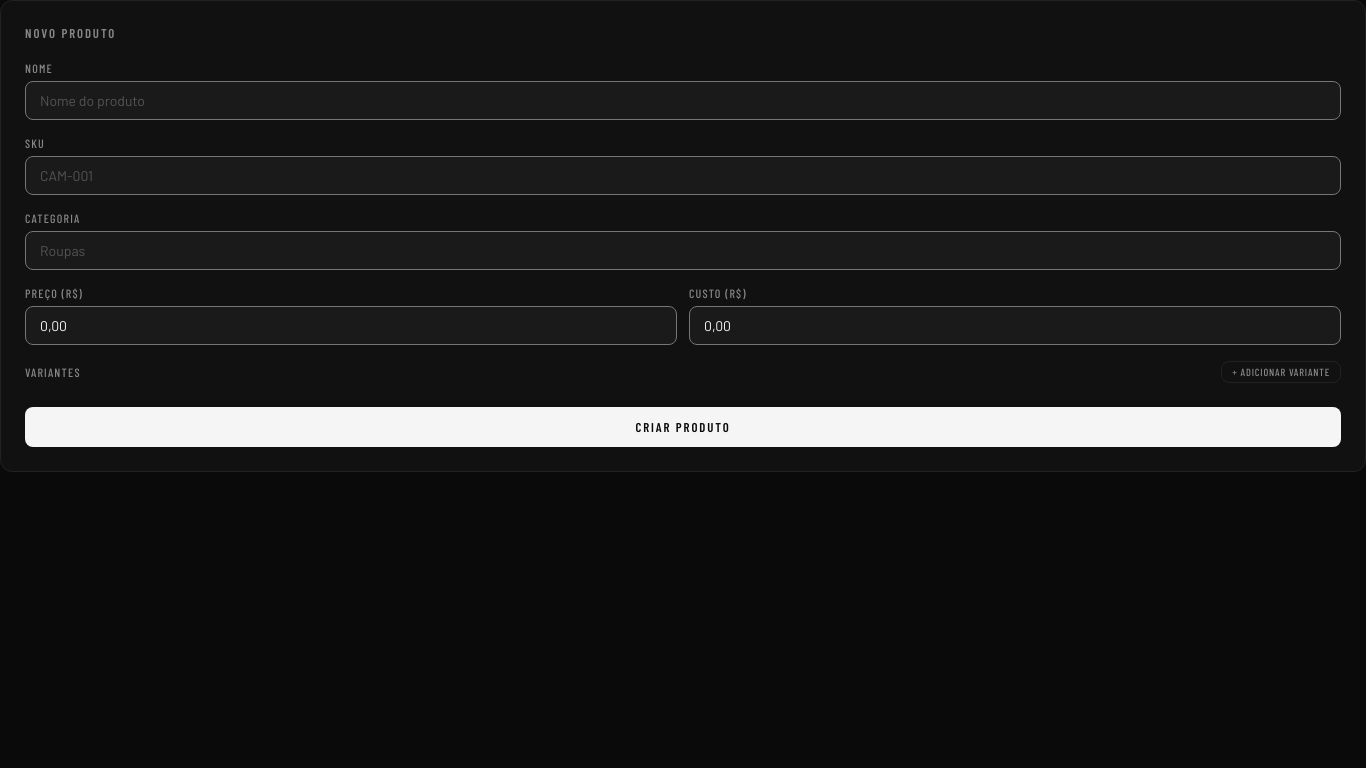
Scenario: CreateProductForm variant rows (M008 polish) › renders newly added variant rows first (reverse order)
Click the button with test id "create-product-add-variant-button": (1281, 372) [1221, 361, 1341, 383]
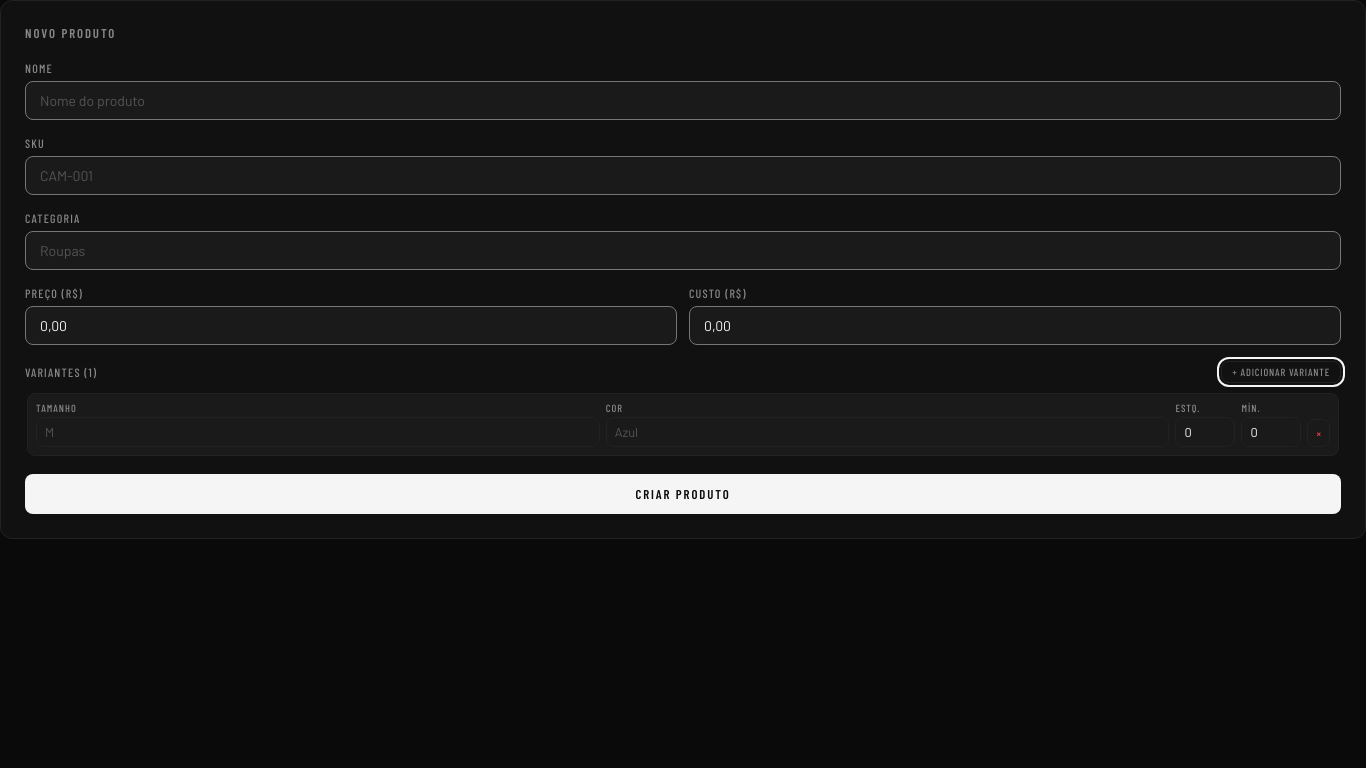
In the field with placeholder "M": (318, 432) [36, 417, 600, 447], type "A"
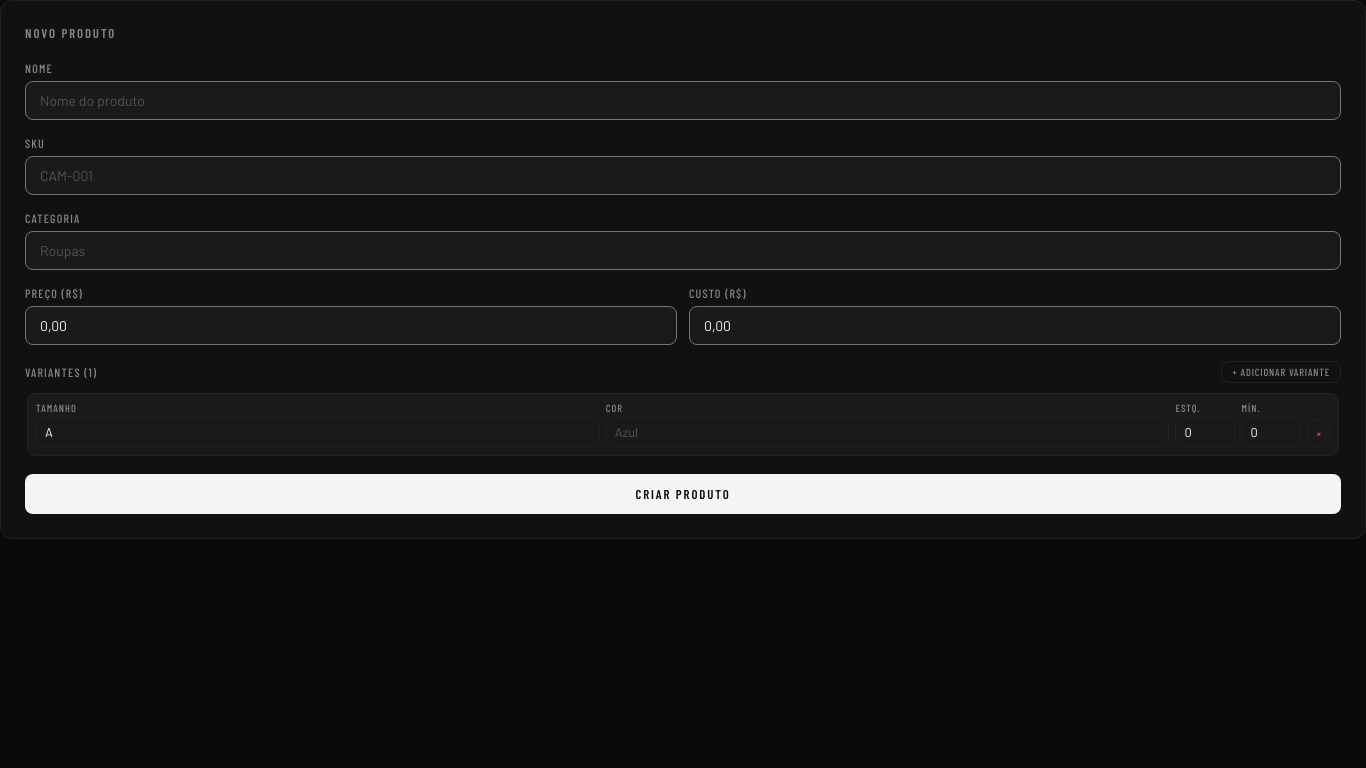
Click the button with test id "create-product-add-variant-button": (1281, 372) [1221, 361, 1341, 383]
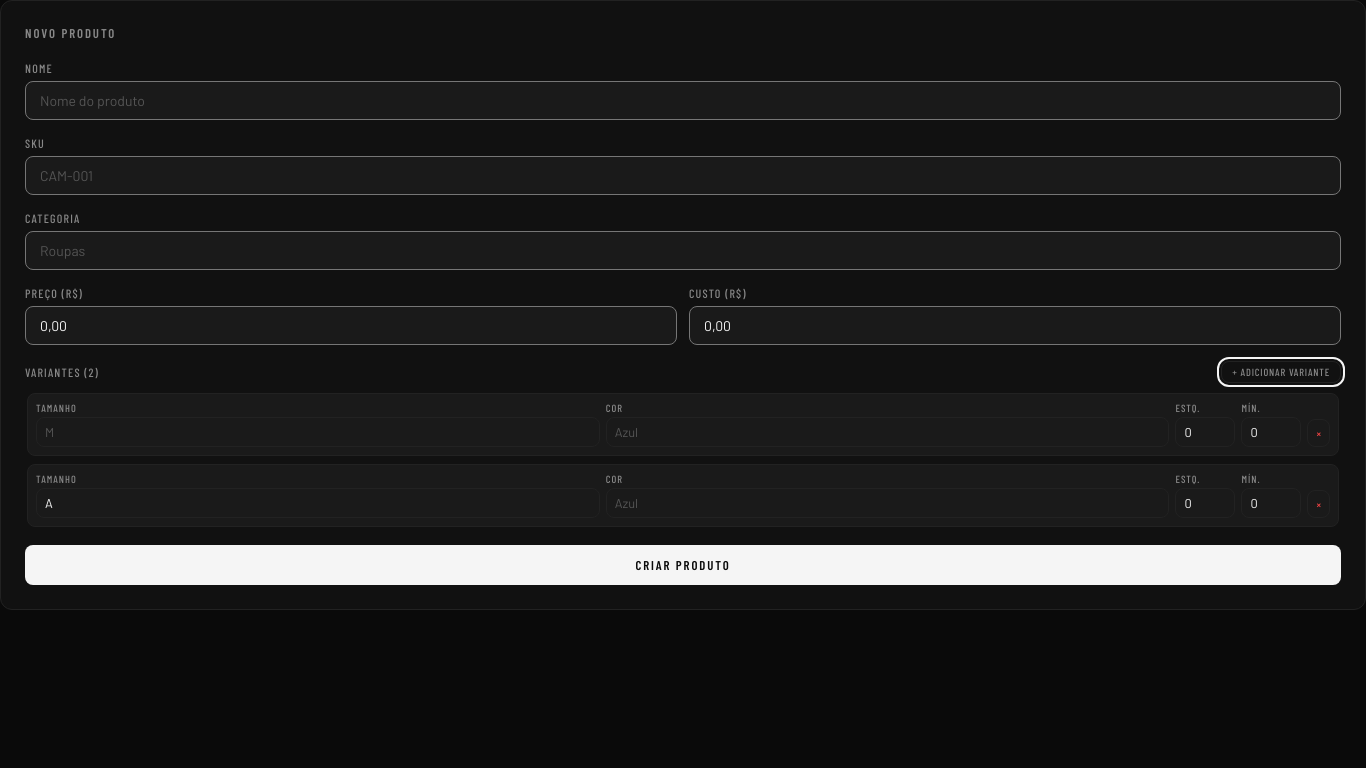
Result: the number of fields with placeholder "M" is 2 at [36, 417, 600, 447]; [36, 488, 600, 518]
Result: the field with placeholder "M" is empty at [36, 417, 600, 447]
